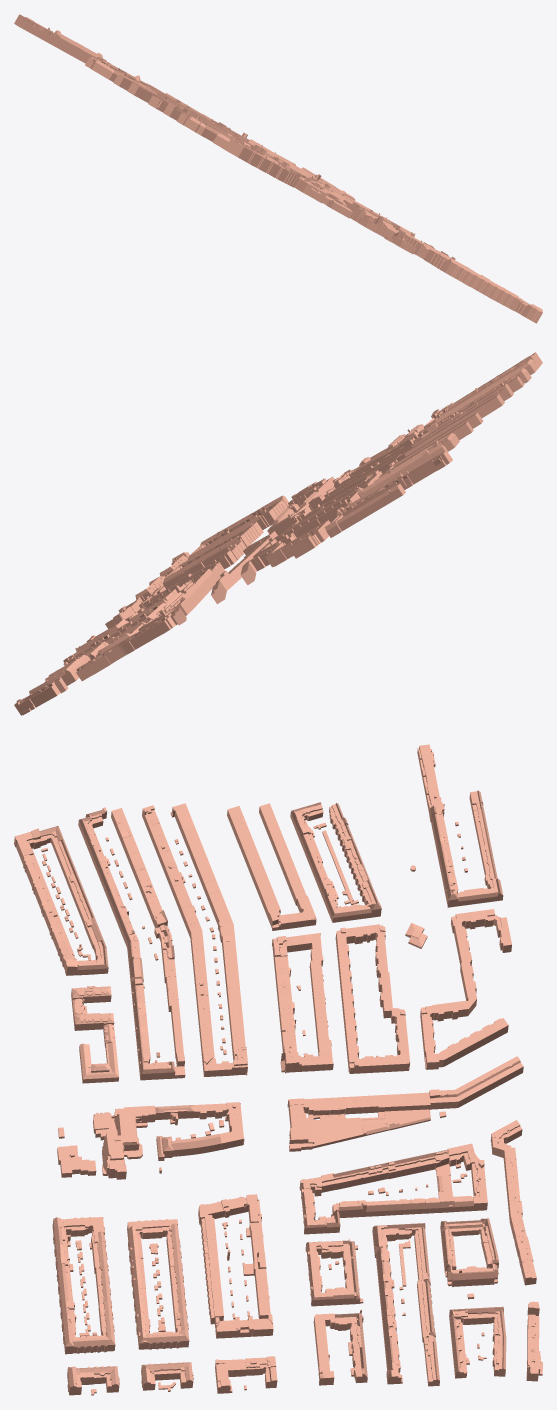
The picture shows the model from 3 angles, top to bottom: view 1: azimuth 30°, elevation 25°; view 2: azimuth 150°, elevation 25°; view 3: azimuth 270°, elevation 25°; orthographic projection. The views are drawn at different scales.
Size of the model in its own units: 1.83e+07 by 1.35e+07 by 1.6e+07.
